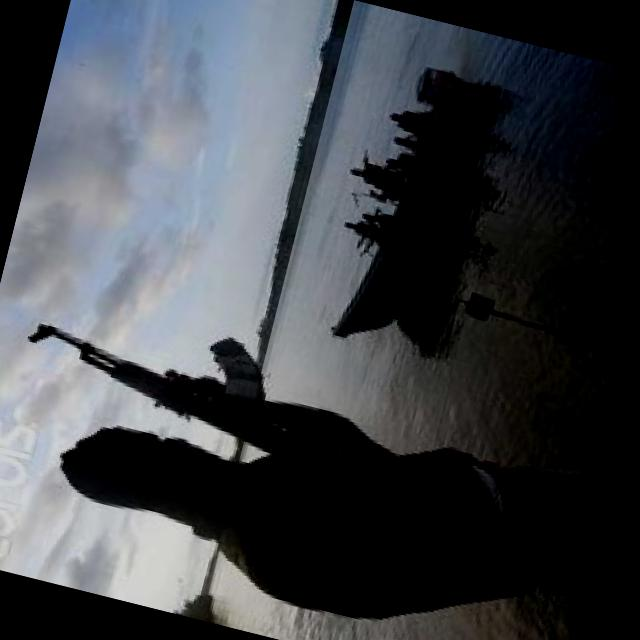long weapon: (9, 286, 496, 516)
